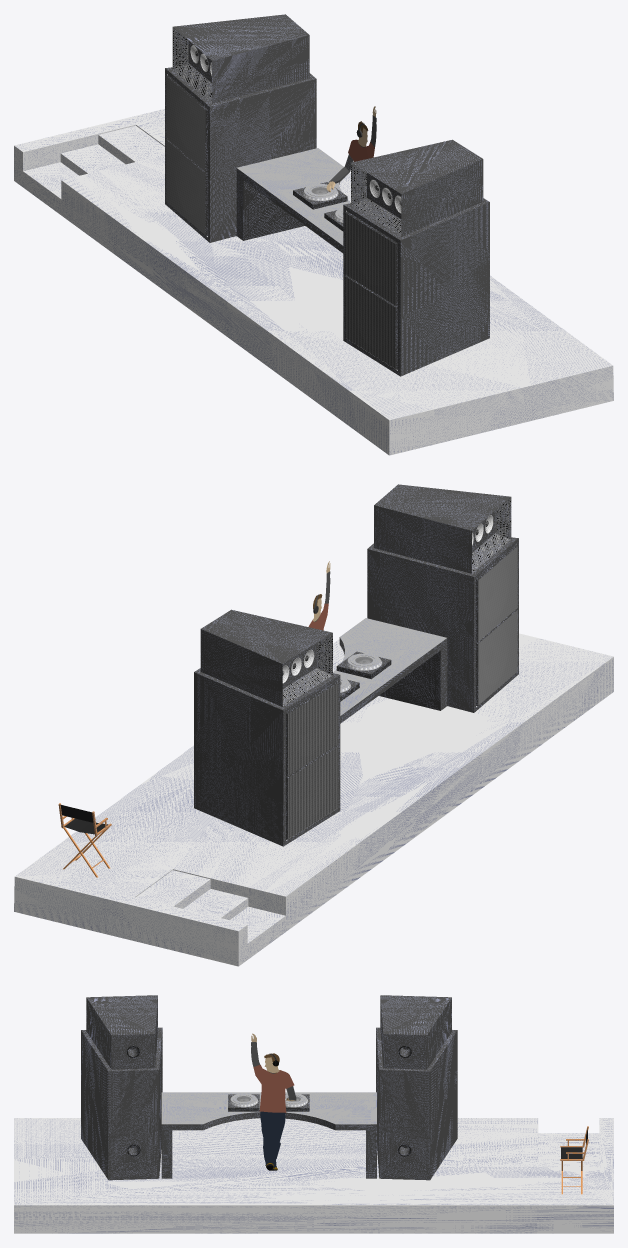
3 renders of one model, top to bottom at view 1: azimuth 30°, elevation 25°; view 2: azimuth 150°, elevation 25°; view 3: azimuth 270°, elevation 25°, orthographic. The views are drawn at different scales.
Parts seen in each view (by area): view 1: SketchUp, group_4 (×6), group_0 (×6), ske7 (×3); view 2: SketchUp, group_0 (×5), group_4 (×5), ske7 (×3); view 3: SketchUp, group_4 (×2), group_0 (×2), ske7 (×2), Dj (×2).
Boxes of the visible parts, x1,y1,x2,y2 form: SketchUp: (14, 109, 613, 455); group_4 (×6): (343, 139, 489, 376); group_0 (×6): (165, 14, 316, 242); ske7 (×3): (236, 148, 350, 253); SketchUp: (14, 633, 613, 966); group_0 (×5): (194, 609, 340, 846); group_4 (×5): (367, 484, 518, 712); ske7 (×3): (333, 618, 447, 723); SketchUp: (14, 1118, 613, 1233); group_4 (×2): (81, 995, 162, 1180); group_0 (×2): (376, 995, 457, 1180); ske7 (×2): (161, 1092, 376, 1178); Dj (×2): (253, 1065, 294, 1168).
Bounding box in the file's own units: 114 × 329 × 104.
23 materials, 2 textured.
